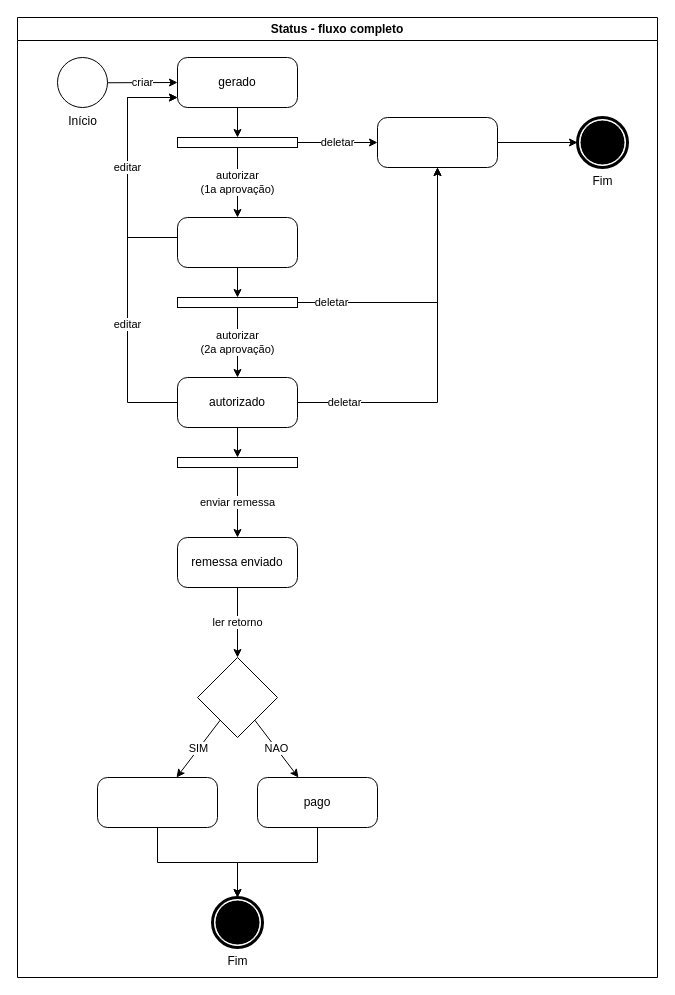
Some shapes in this 675 by 995 pixel diagram are drawn without their labels. The shapes that lost their labels are listed below. From the top down, each one's centre as x and y in pixels, then its label:
the point at 437,142: cancelado
the point at 237,242: autorizado parcial
the point at 237,697: Possui erro?
the point at 157,802: erro
